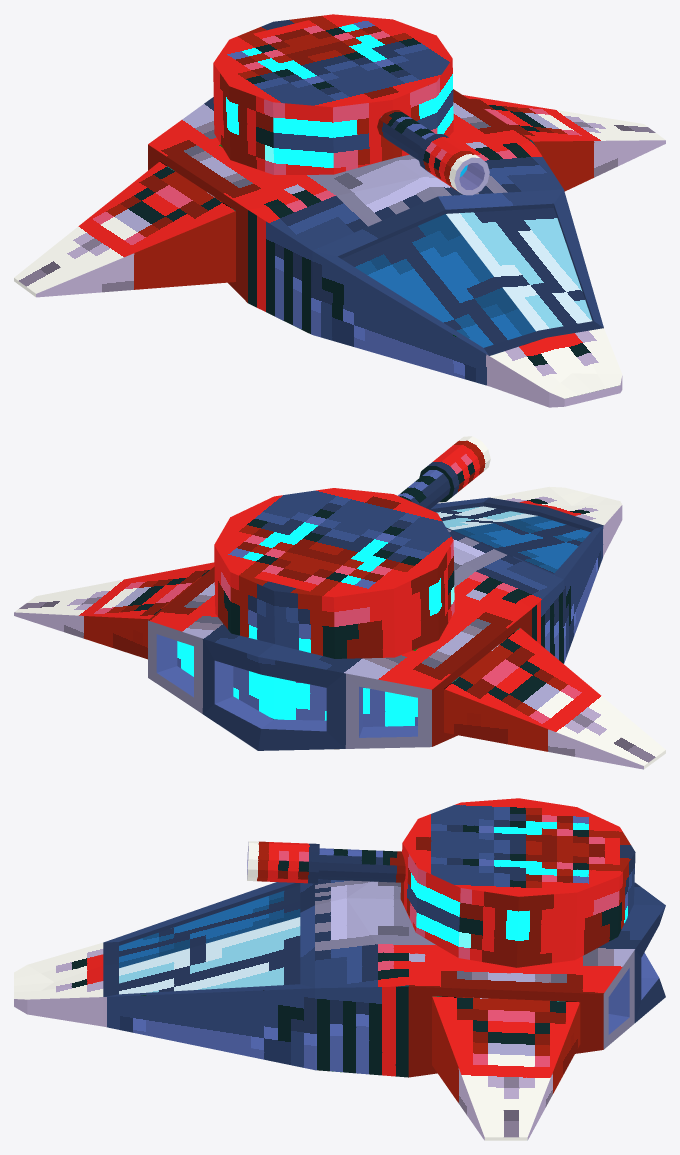
The model's file is pixel_space_ship-2.glb.
3 renders of one model, top to bottom at view 1: azimuth 30°, elevation 25°; view 2: azimuth 150°, elevation 25°; view 3: azimuth 270°, elevation 25°, orthographic. The views are drawn at different scales.
Parts seen in each view (by area): view 1: SpaceShipEnemy_04_0; view 2: SpaceShipEnemy_04_0; view 3: SpaceShipEnemy_04_0.
Boxes of the visible parts, x1,y1,x2,y2 form: SpaceShipEnemy_04_0: (14,14,665,407); SpaceShipEnemy_04_0: (14,436,665,769); SpaceShipEnemy_04_0: (14,798,665,1140).
Bounding box in the file's own units: 4.43 × 1.38 × 4.08.
1 material, 1 textured.
